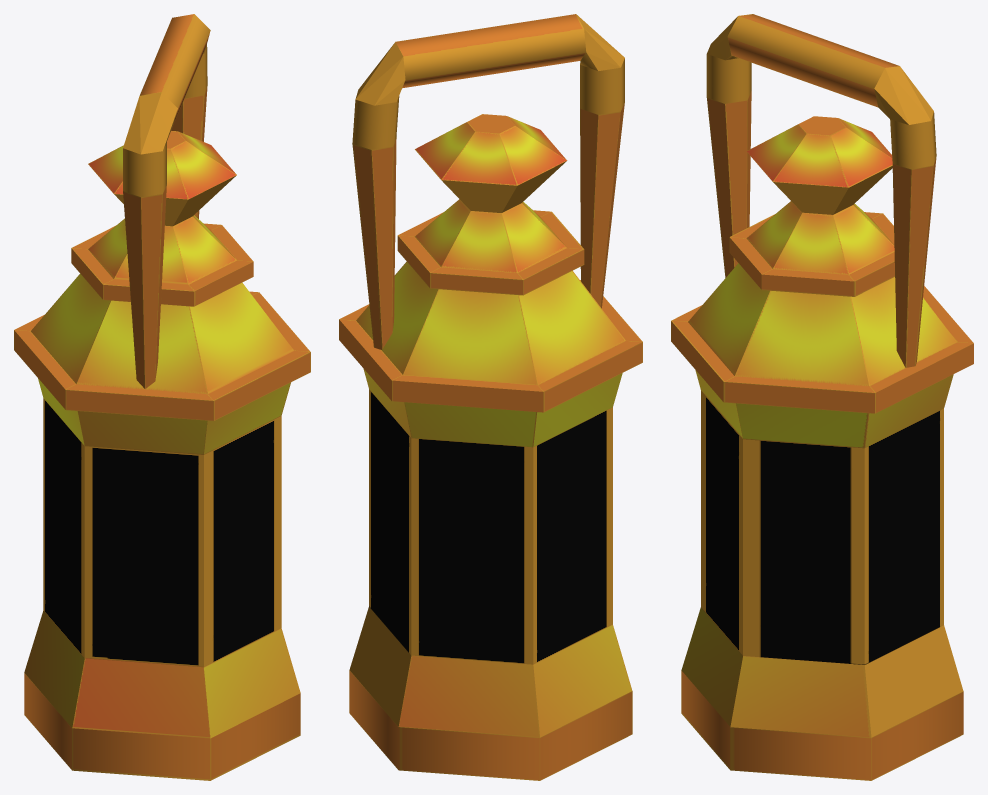
Rendered from Lantern.FBX.
3 views of the same model, side by side, from view 1: azimuth 30°, elevation 25°; view 2: azimuth 150°, elevation 25°; view 3: azimuth 270°, elevation 25° (orthographic). The views are drawn at different scales.
Parts seen in each view (by area): view 1: Lantern; view 2: Lantern; view 3: Lantern.
Boxes of the visible parts, box(x1,y1,x2,y2) form: Lantern: box(14, 14, 310, 780); Lantern: box(339, 14, 642, 780); Lantern: box(671, 14, 973, 780).
Size of the model in its own units: 2.26 by 5.94 by 2.37.
1 material, 1 textured.
